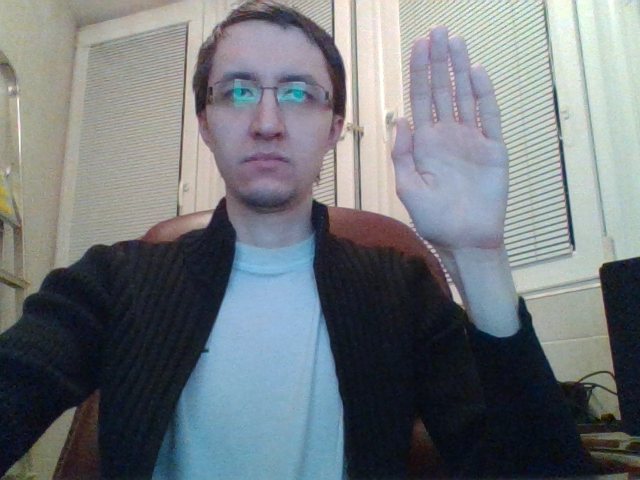hand: (412, 131, 506, 244)
